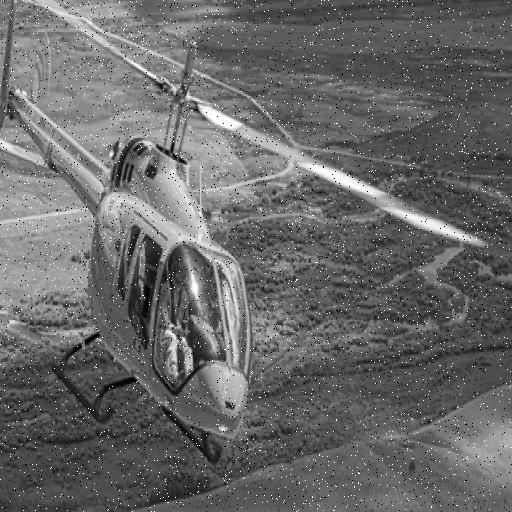helicopter: (1, 26, 500, 466)
